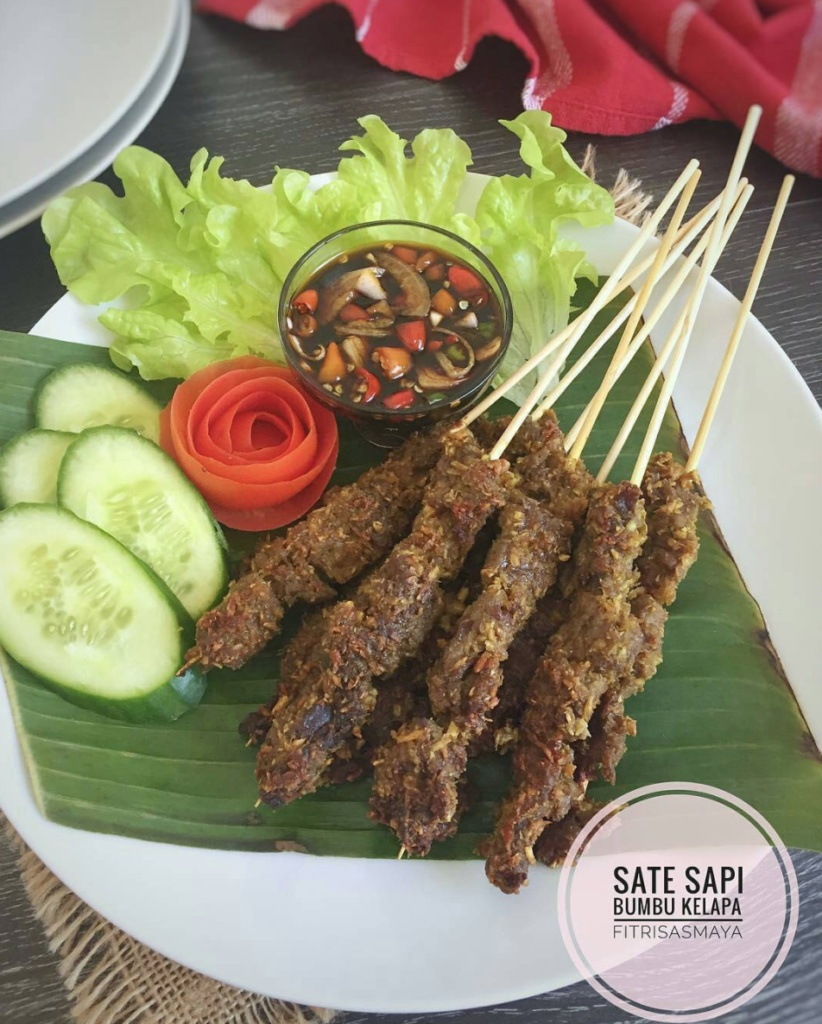sate: (511, 104, 765, 896)
